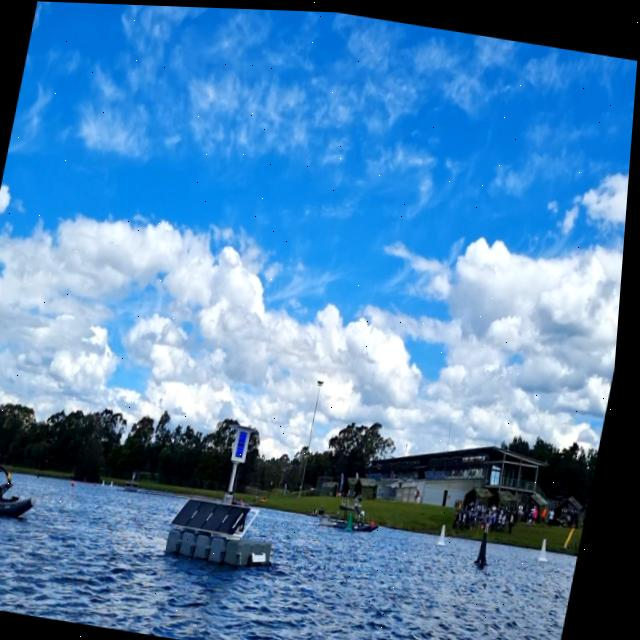led: (239, 426, 255, 460)
